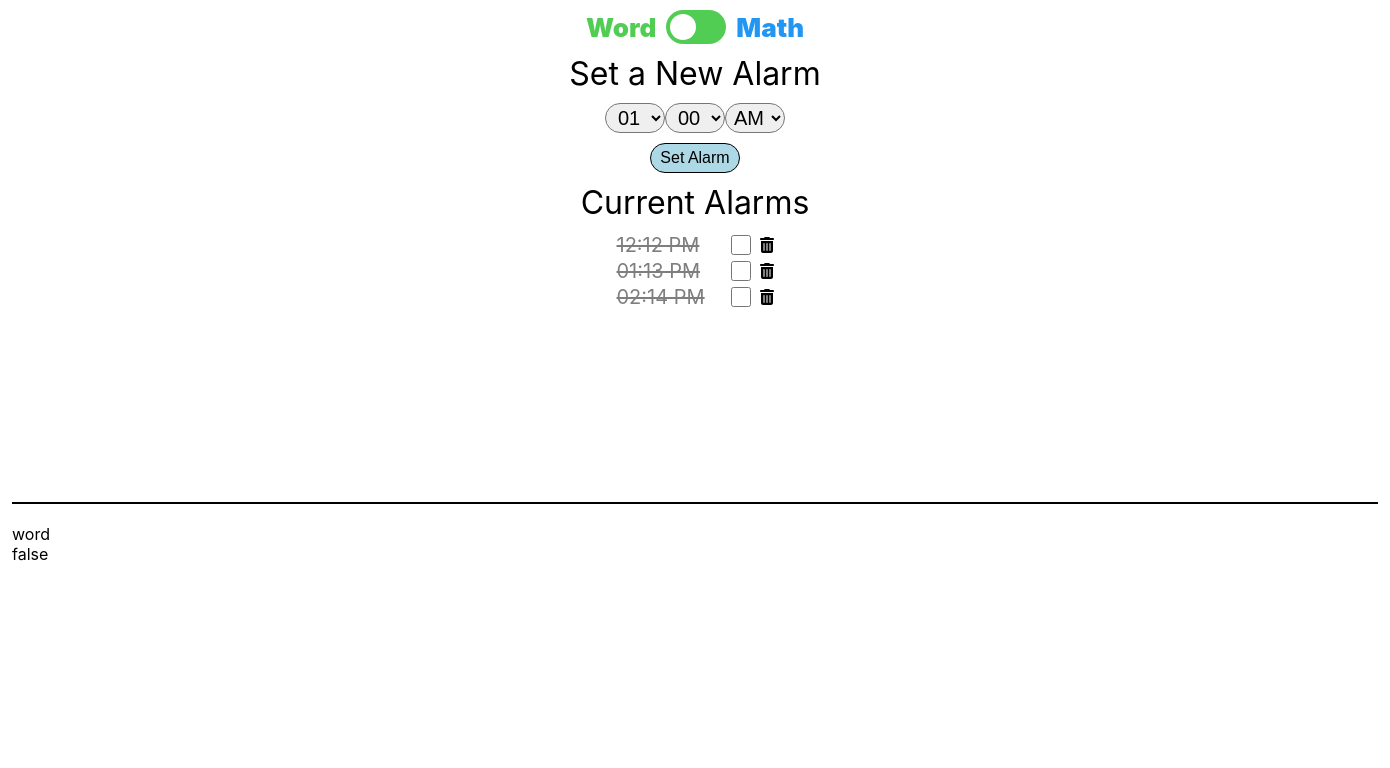
Scenario: A user should be able to delete an alarm from their list of alarms › When a user removes an alarm from their alarm list, it is no longer visible on their home page
Click the picture with test id "delete-2" at (766, 297), box [760,289,774,305]
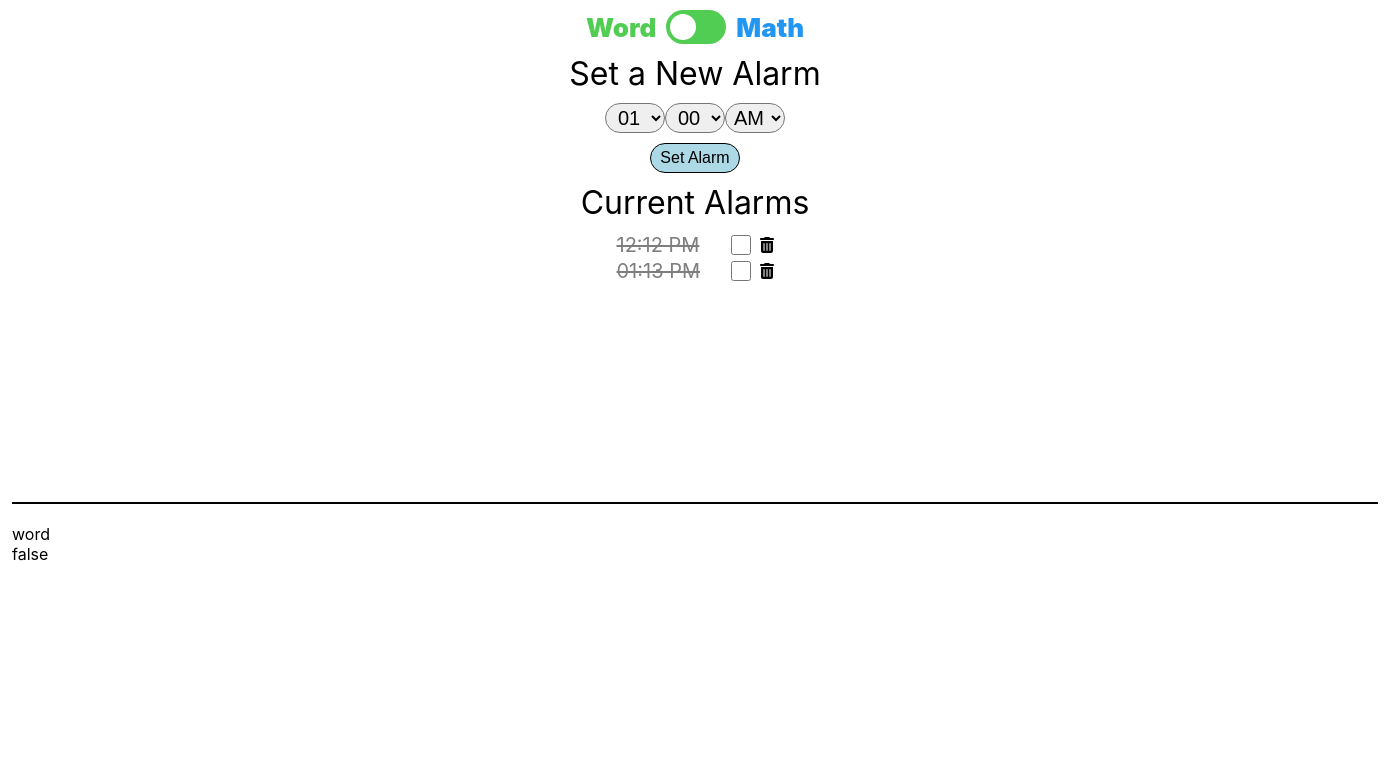
Expected: the text "2:14 PM" is gone
